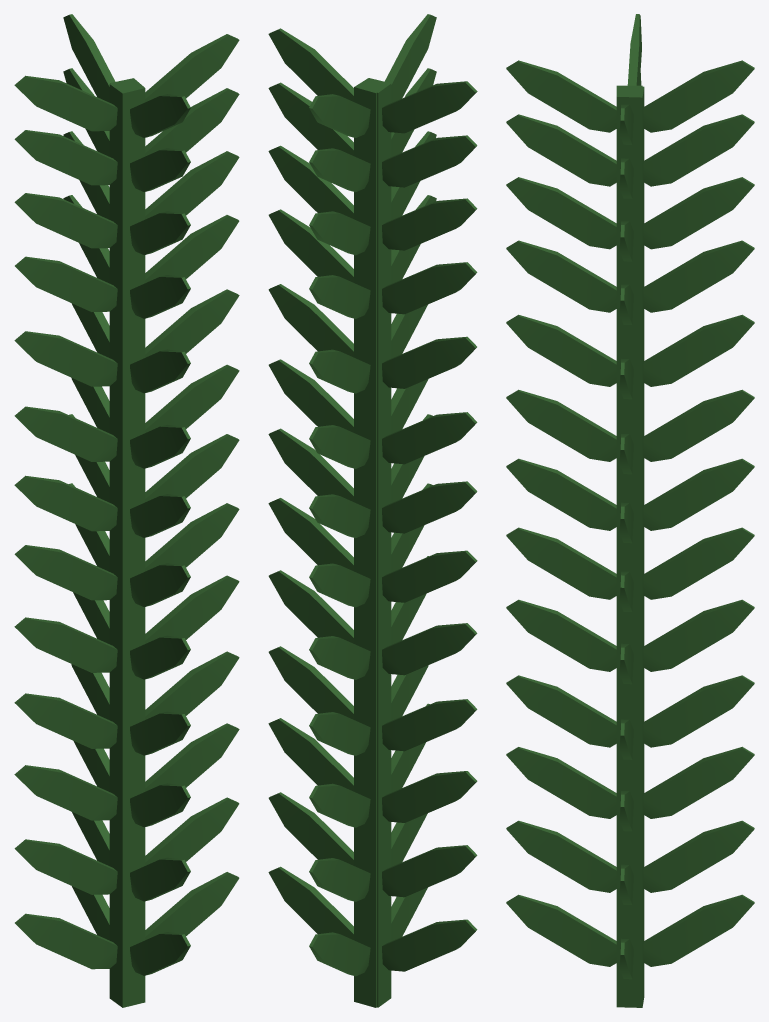
Rendered from SM_KelpPlaceHolder1_S.fbx.
3 renders of one model, left to right at view 1: azimuth 30°, elevation 25°; view 2: azimuth 150°, elevation 25°; view 3: azimuth 270°, elevation 25°, orthographic.
Visible parts, largest first — view 1: kelp_s; view 2: kelp_s; view 3: kelp_s.
Boxes of the visible parts, x1=… form: kelp_s: x1=14, y1=14, x2=239, y2=1007; kelp_s: x1=268, y1=14, x2=477, y2=1007; kelp_s: x1=506, y1=14, x2=754, y2=1007.
Bounding box in the file's own units: 81.15 × 340 × 81.26.
